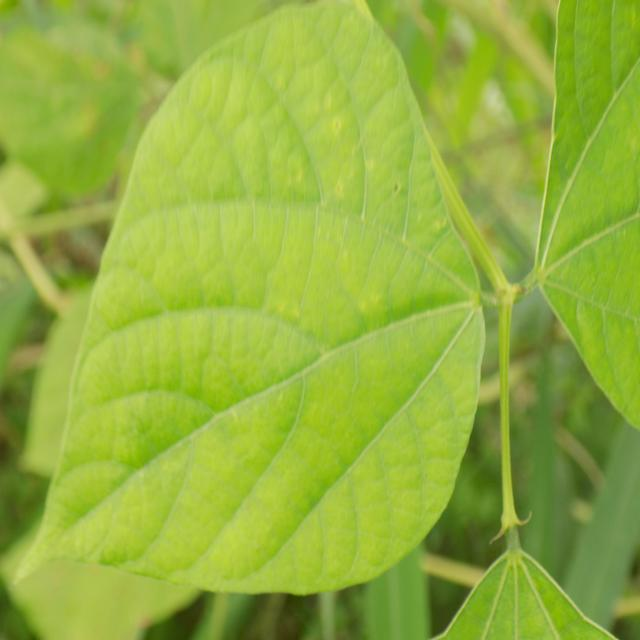Dolicos bean_healthy: (10, 0, 488, 595), (537, 0, 640, 454)
